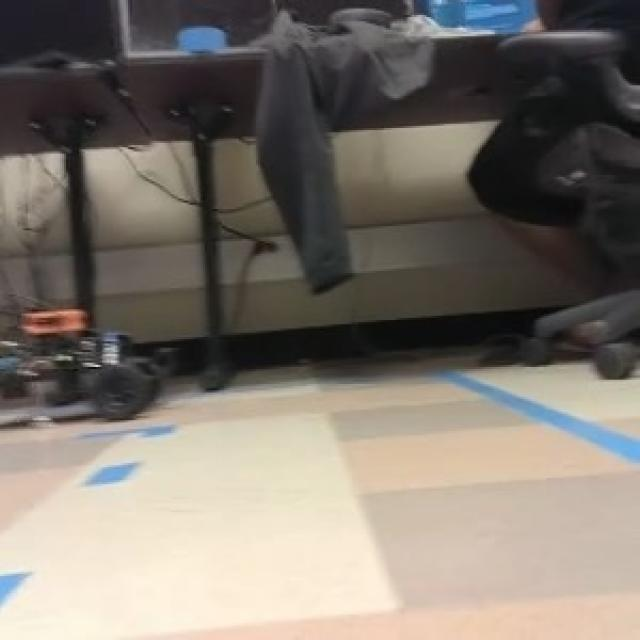obstacle: (2, 306, 162, 417)
